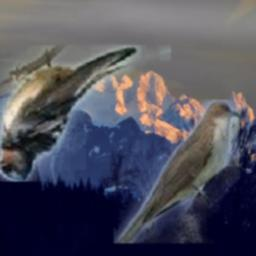Cuckoo: (114, 101, 240, 244)
Swallow: (0, 45, 171, 182)
